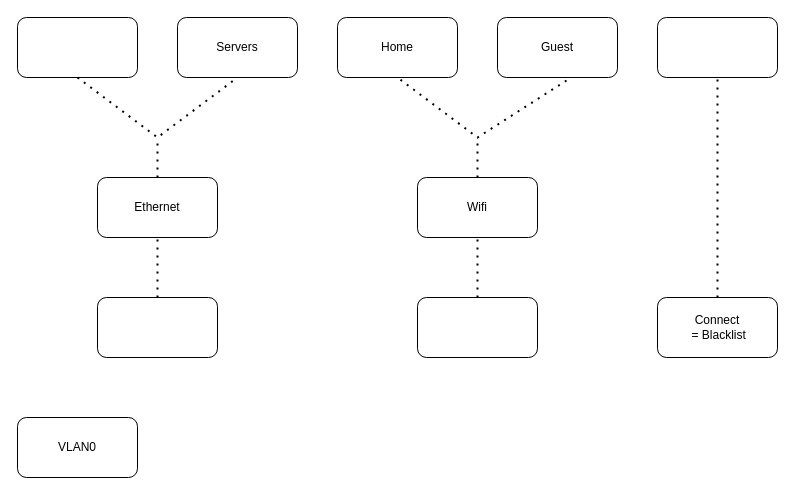
Some shapes in this 795 by 495 pixel diagram are drawn without their labels. Here are the shapes that lost their labels. From the top down, the centre of each, then its label:
pixel 77 47: Workstation
pixel 717 47: HoneyPot
pixel 157 327: Inspection heavy
pixel 477 327: Inspection Light
